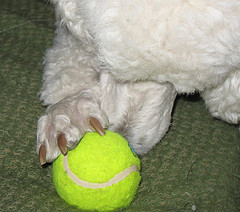tennis ball: (51, 130, 140, 212)
